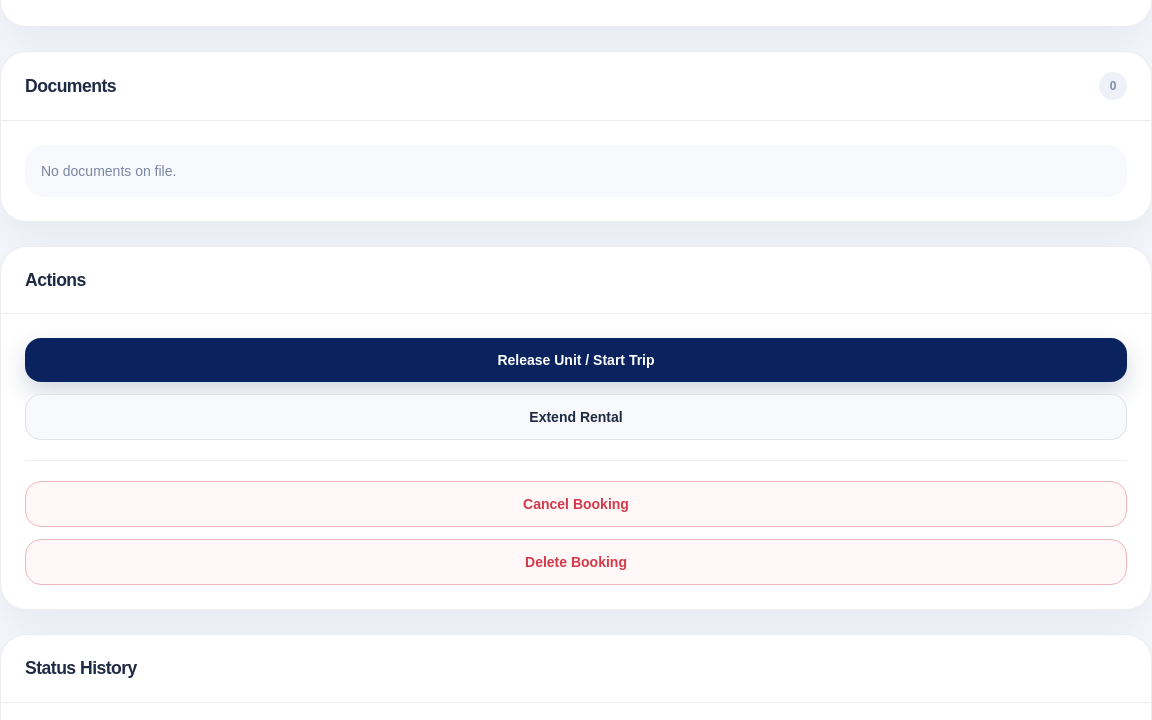
Test case: AdminBookingDetail › renders placeholders in action modals
The width and height of the screenshot is (1152, 720).
(page scrolled)
Step 1. Click the button "Release Unit / Start Trip" → [576, 360], box 25,338 -> 1127,382
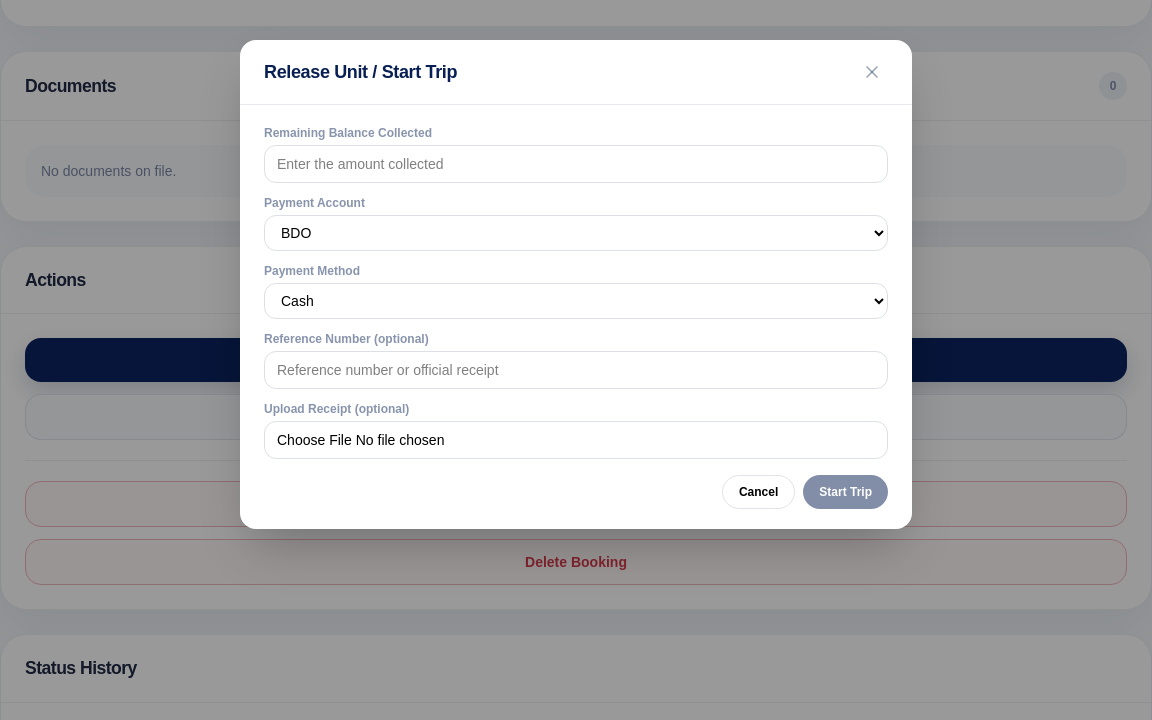
Expected: the number field with placeholder "Enter the amount collected" is shown, 264,145 -> 888,183
Expected: the field with placeholder "Reference number or official receipt" is shown, 264,351 -> 888,389
